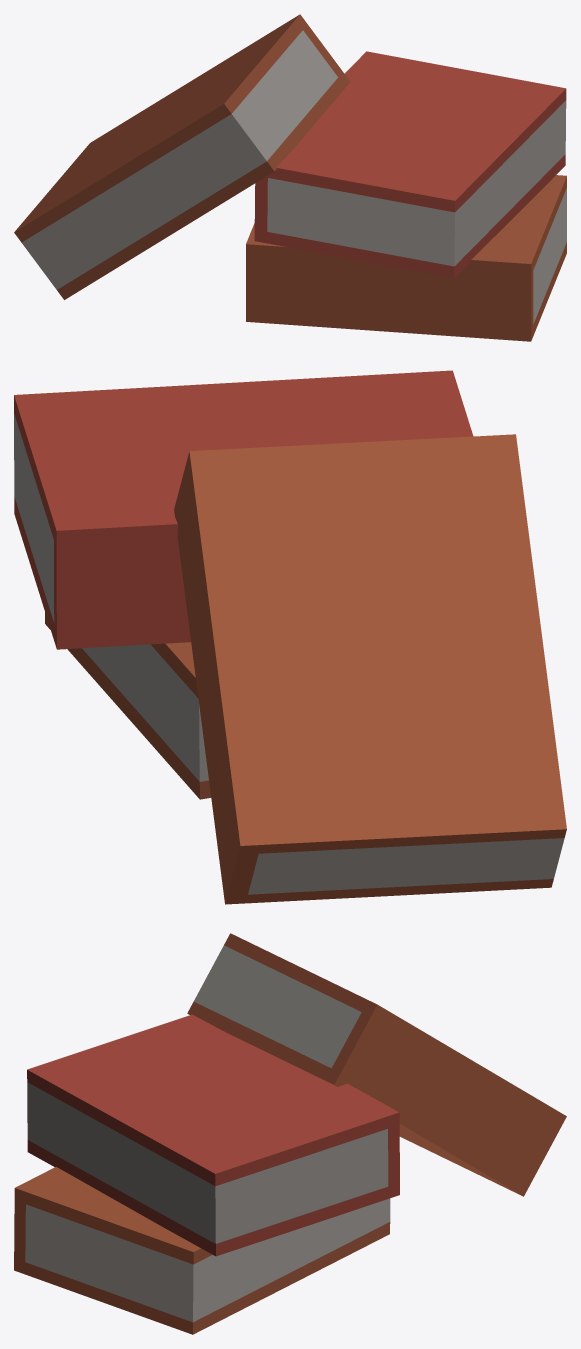
The model's file is AI_Prop_Books.fbx.
3 renders of one model, top to bottom at view 1: azimuth 30°, elevation 25°; view 2: azimuth 150°, elevation 25°; view 3: azimuth 270°, elevation 25°, orthographic. The views are drawn at different scales.
Parts seen in each view (by area): view 1: AI_Prop_Books; view 2: AI_Prop_Books; view 3: AI_Prop_Books.
Boxes of the visible parts, <box> form: AI_Prop_Books: <box>14,14,566,341</box>; AI_Prop_Books: <box>14,370,566,904</box>; AI_Prop_Books: <box>14,933,566,1334</box>.
Size of the model in its own units: 0.9295 by 0.4433 by 0.9093.
